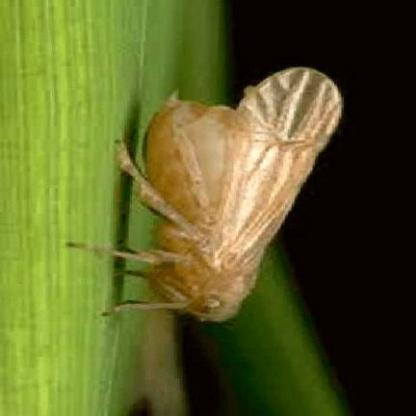brown-planthopper: (127, 52, 346, 326)
